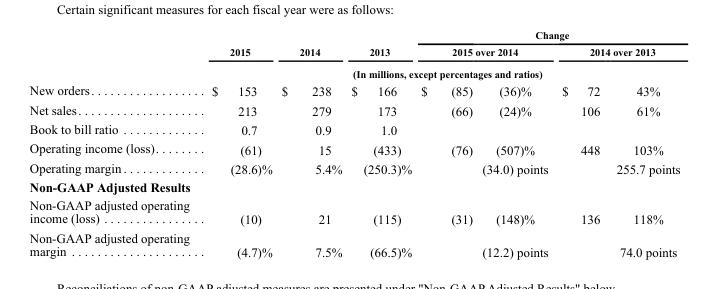table: (28, 28, 679, 258)
table column: (28, 28, 199, 258), (476, 28, 554, 258), (199, 28, 276, 258), (607, 28, 679, 258), (276, 28, 346, 258), (346, 28, 415, 258), (415, 28, 476, 258), (554, 28, 607, 258)
table column header: (28, 28, 679, 100)
table projected row header: (28, 177, 679, 195)
table row: (28, 195, 679, 228), (28, 228, 679, 258), (28, 42, 679, 62), (28, 138, 679, 158), (28, 62, 679, 81), (28, 81, 679, 100), (28, 100, 679, 119), (28, 119, 679, 138), (28, 158, 679, 177), (28, 177, 679, 195), (28, 28, 679, 42)
table spanning cell: (28, 28, 199, 100), (199, 62, 679, 81), (415, 28, 679, 42), (415, 42, 554, 62), (199, 28, 276, 62), (554, 42, 679, 62), (276, 28, 346, 62), (346, 28, 415, 62)
